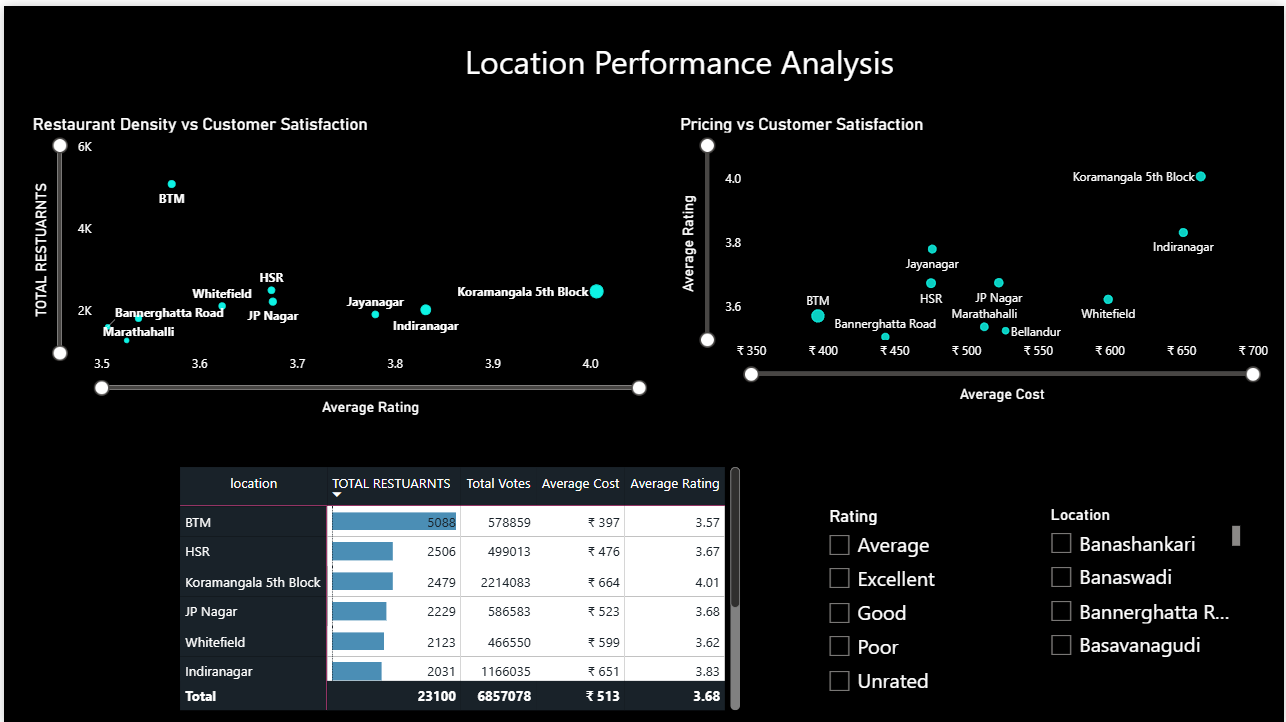

Layout of this report page (visuals, bound fields, positions):
{"tool":"powerbi","page":{"name":"Location Performance Analysis","canvas":[1280,720],"ordinal":1},"visuals":[{"type":"textbox","box":[396.6,28.8,558.5,56.3],"z":0},{"type":"scatterChart","title":"Restaurant Density vs Customer Satisfaction","fields":{"X":["Fact_Restaurants.Average Rating"],"Y":["Fact_Restaurants.TOTAL RESTUARNTS"],"Size":["Fact_Restaurants.Total Votes"],"Category":["Dim_Location.location"]},"box":[8.4,107.4,639.4,320.9],"z":1000},{"type":"scatterChart","title":"Pricing vs Customer Satisfaction","fields":{"X":["Fact_Restaurants.Average Cost"],"Y":["Fact_Restaurants.Average Rating"],"Size":["Fact_Restaurants.TOTAL RESTUARNTS"],"Category":["Dim_Location.location"]},"box":[656,107.4,612.9,307.6],"z":2000},{"type":"pivotTable","fields":{"Rows":["Dim_Location.location"],"Values":["Fact_Restaurants.TOTAL RESTUARNTS","Fact_Restaurants.Total Votes","Fact_Restaurants.Average Cost","Fact_Restaurants.Average Rating"]},"box":[171.3,456,569.4,253.4],"z":3000},{"type":"slicer","fields":{"Values":["Dim_RatingCategory.rating_category"]},"box":[811.9,494.6,202.7,203.9],"z":4000},{"type":"slicer","fields":{"Values":["Dim_Location.location"]},"box":[1033.9,494.6,207.5,164.1],"z":5000}]}

Visuals, with their boxes in screenshot pixels (x1, y1, x2, y2), scaled from the page's 1280x720 canvas onto the 1286x722 screenshot:
textbox: <bbox>398, 29, 960, 85</bbox>
"Restaurant Density vs Customer Satisfaction" scatterChart: <bbox>8, 108, 651, 429</bbox>
"Pricing vs Customer Satisfaction" scatterChart: <bbox>659, 108, 1275, 416</bbox>
pivotTable - Dim_Location.location x Fact_Restaurants.TOTAL RESTUARNTS: <bbox>172, 457, 744, 711</bbox>
slicer - Dim_RatingCategory.rating_category: <bbox>816, 496, 1019, 700</bbox>
slicer - Dim_Location.location: <bbox>1039, 496, 1247, 661</bbox>
